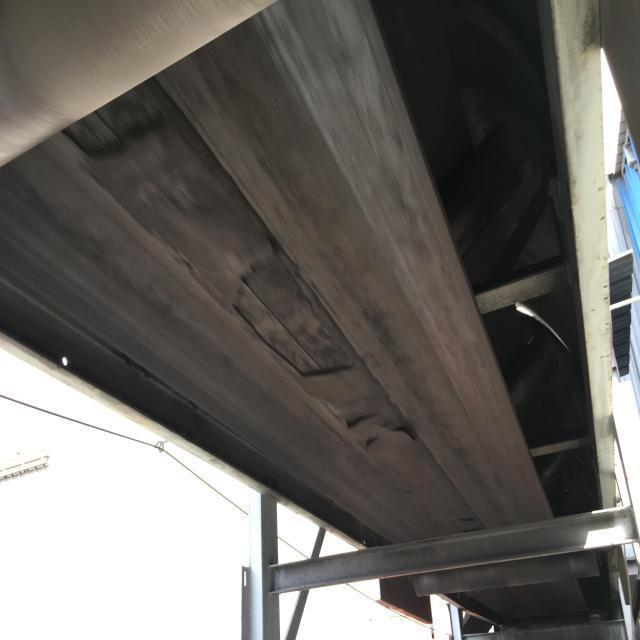Wear: (59, 79, 425, 465)
